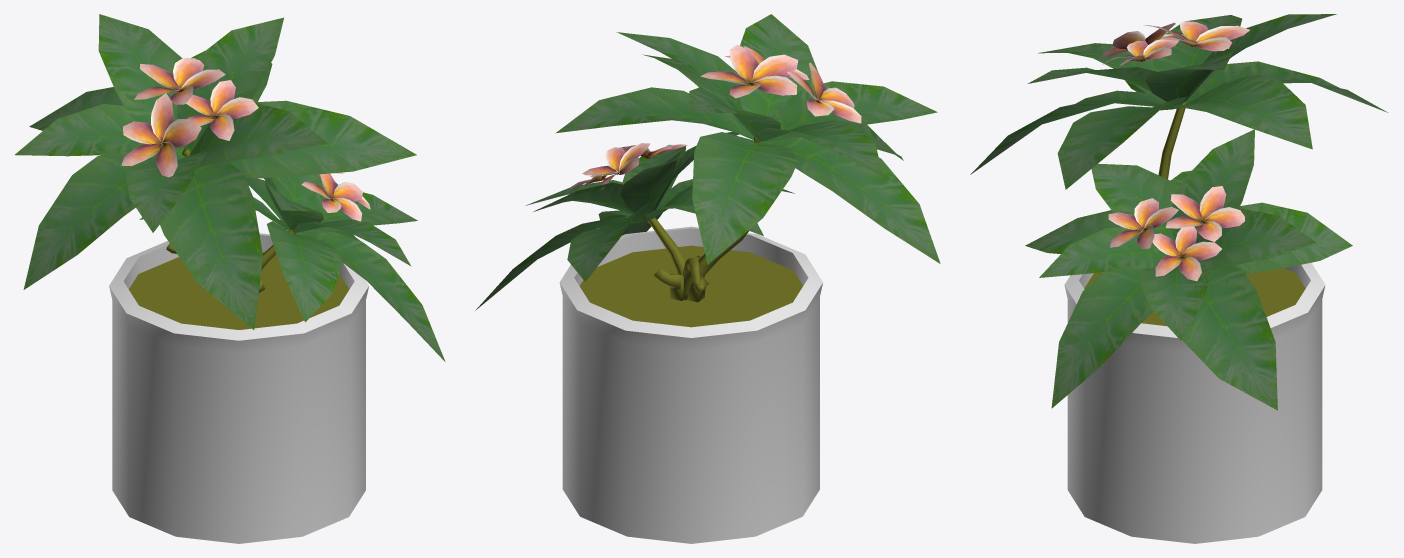
The model's file is flower3.glb.
3 renders of one model, left to right at view 1: azimuth 30°, elevation 25°; view 2: azimuth 150°, elevation 25°; view 3: azimuth 270°, elevation 25°, orthographic.
Parts seen in each view (by area): view 1: Object_5, Object_4, Object_6, Object_3; view 2: Object_4, Object_5, Object_3, Object_6, Object_2; view 3: Object_5, Object_4, Object_6, Object_3, Object_2.
Part boxes in pixels (x1,y1,x2,y2): Object_5: [15, 14, 445, 361]; Object_4: [109, 233, 368, 543]; Object_6: [121, 58, 370, 221]; Object_3: [129, 252, 349, 329]; Object_4: [559, 226, 822, 543]; Object_5: [475, 14, 940, 310]; Object_3: [579, 245, 802, 327]; Object_6: [569, 44, 861, 189]; Object_2: [648, 137, 760, 302]; Object_5: [970, 14, 1388, 410]; Object_4: [1064, 262, 1325, 543]; Object_6: [1101, 21, 1249, 281]; Object_3: [1084, 268, 1305, 325]; Object_2: [1158, 101, 1185, 257].
Bounding box in the file's own units: 3.82 × 4.14 × 3.43.
Materials: 4 (2 with a texture image).
